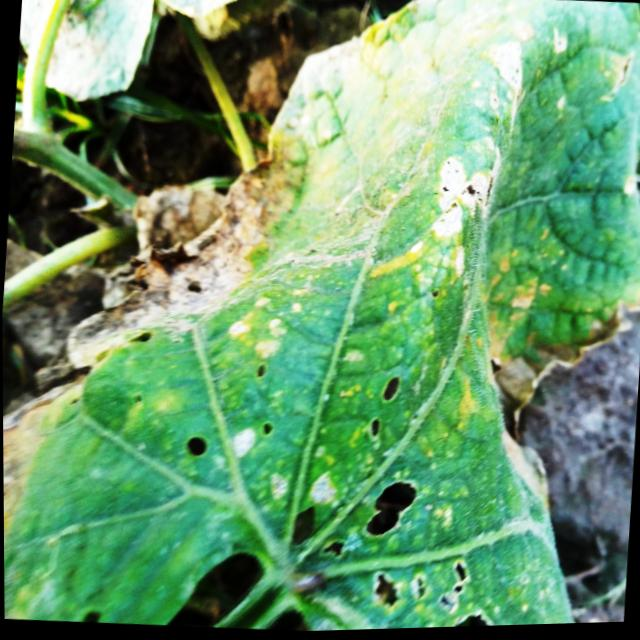Anthracnose: (369, 549, 507, 629), (362, 473, 421, 548), (178, 431, 212, 470), (360, 412, 385, 448), (380, 371, 404, 408)
